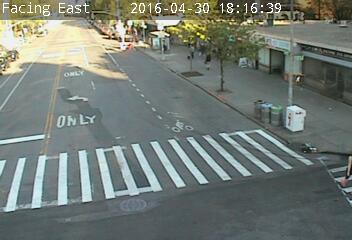neg: (203, 154, 234, 195), (307, 140, 337, 180), (36, 68, 66, 107), (88, 156, 113, 190), (32, 145, 56, 178), (99, 85, 123, 116), (165, 88, 188, 118), (256, 155, 278, 184), (165, 150, 186, 178), (107, 30, 126, 56), (60, 25, 79, 50), (274, 107, 291, 130), (147, 36, 164, 58), (322, 63, 336, 83), (278, 66, 292, 85), (252, 100, 265, 119), (215, 71, 227, 88)
pos: (185, 40, 200, 59), (204, 53, 215, 68)
